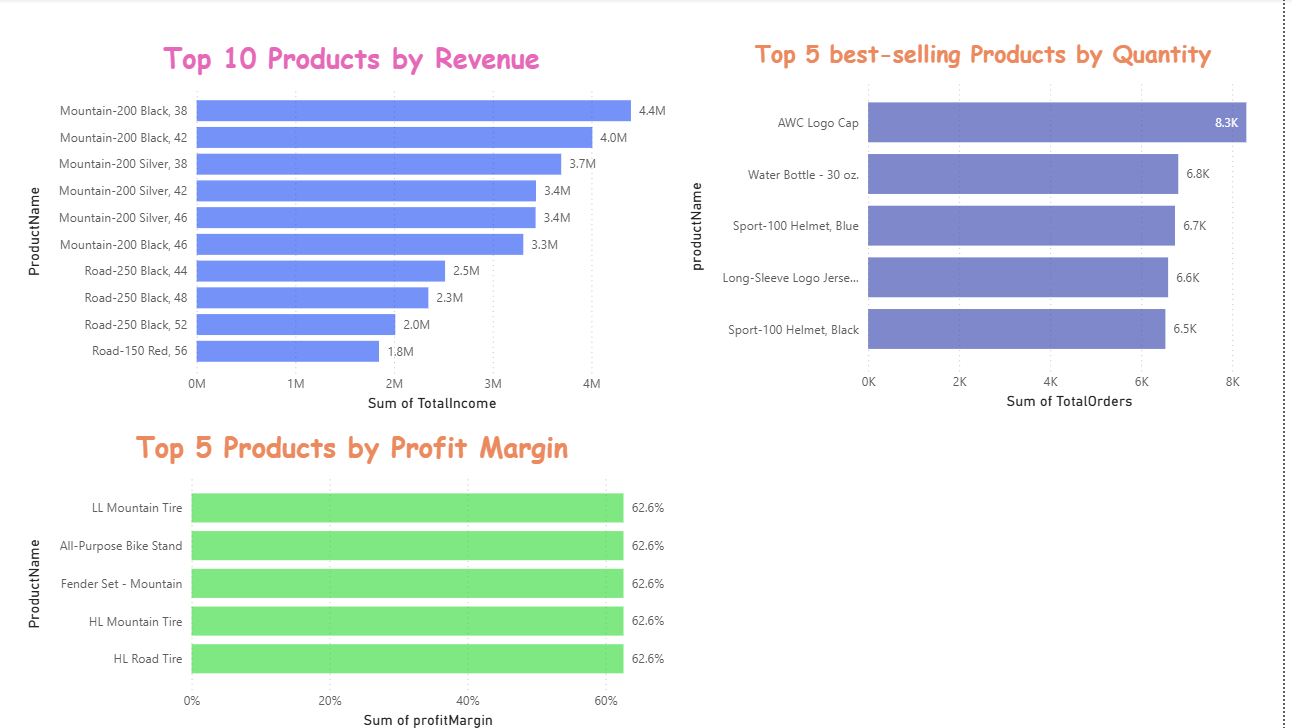

Layout of this report page (visuals, bound fields, positions):
{"tool":"powerbi","page":{"name":"Product_perfomance","canvas":[1280,720],"ordinal":2},"visuals":[{"type":"clusteredBarChart","title":"Top 10 Products by Revenue","fields":{"Category":["ProductsByRevenue.ProductName"],"Y":["Sum(ProductsByRevenue.TotalIncome)"]},"box":[45.4,38.9,646.6,370.6],"z":0},{"type":"clusteredBarChart","title":"Top 5 best-selling Products by Quantity","fields":{"Category":["Top5BestSelling_ProductQty.productName"],"Y":["Sum(Top5BestSelling_ProductQty.TotalOrders)"]},"box":[692,38,588,370],"z":1},{"type":"clusteredBarChart","title":"Top 5 Products by Profit Margin","fields":{"Category":["top5ProductsProfit.ProductName"],"Y":["Sum(top5ProductsProfit.profitMargin)"]},"box":[45,420,647,300],"z":2}]}

Visuals, with their boxes in screenshot pixels (x1, y1, x2, y2), scaled from the page's 1280x720 canvas onto the 1292x728 screenshot:
"Top 10 Products by Revenue" clusteredBarChart: select_region(46, 39, 698, 414)
"Top 5 best-selling Products by Quantity" clusteredBarChart: select_region(698, 38, 1291, 413)
"Top 5 Products by Profit Margin" clusteredBarChart: select_region(45, 425, 698, 727)
